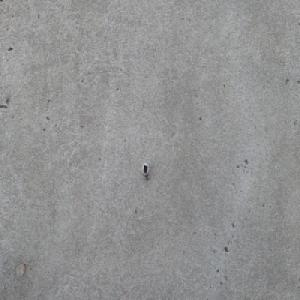MetalPart: (141, 162, 150, 181)
